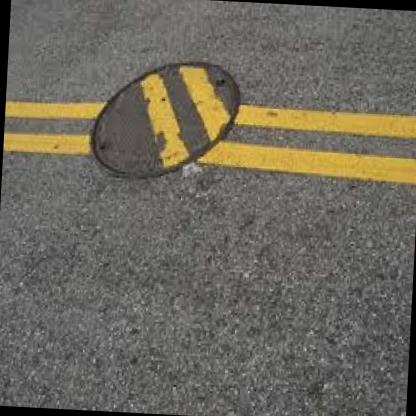manholes: (58, 7, 276, 222)
